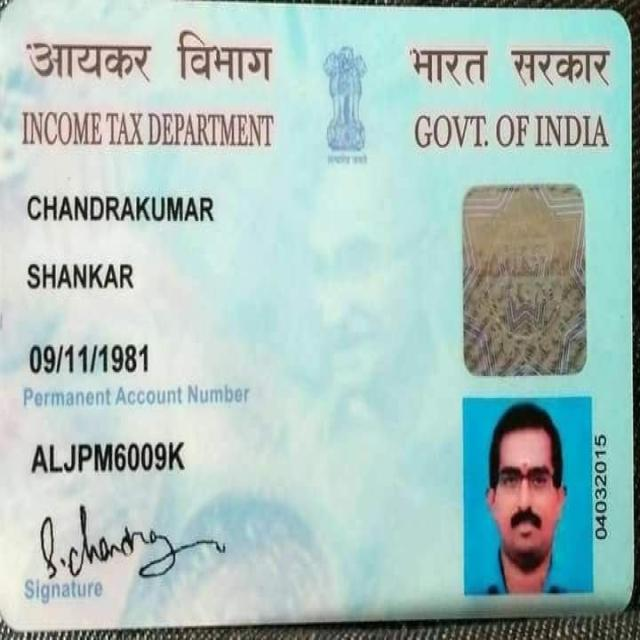pan_card: (0, 2, 638, 614)
